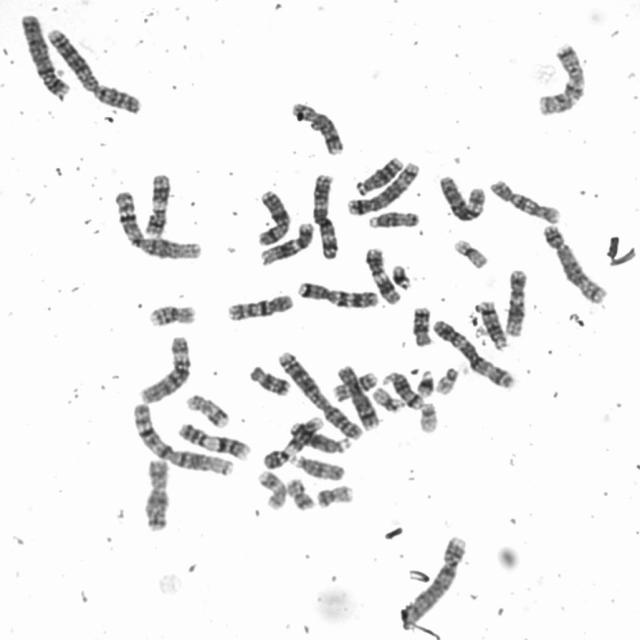A1: (129, 398, 237, 477), (110, 186, 204, 261)
A2: (43, 24, 144, 116), (272, 347, 366, 442)
A3: (431, 315, 519, 391), (309, 170, 342, 260)
B4: (397, 530, 469, 630), (18, 10, 72, 98)
B5: (539, 219, 609, 305), (344, 156, 423, 216)
C10: (486, 175, 564, 224), (224, 290, 295, 322)
C11: (361, 243, 404, 306), (142, 169, 173, 238)
C12: (257, 218, 316, 267), (500, 265, 530, 337)
C6: (135, 331, 194, 405), (435, 172, 487, 224)
C7: (534, 38, 589, 117), (294, 276, 382, 310)
C8: (334, 360, 382, 431), (288, 98, 346, 156)
C9: (260, 412, 326, 470), (174, 418, 252, 462)
D13: (352, 151, 406, 197), (285, 418, 352, 455)
D14: (379, 367, 426, 410), (475, 296, 510, 351)
D15: (286, 450, 348, 482), (364, 207, 421, 230)
E16: (330, 368, 379, 402), (144, 300, 198, 328)
E17: (183, 389, 233, 430), (254, 466, 289, 511)
E18: (246, 361, 292, 397), (408, 302, 434, 348)
F19: (449, 235, 491, 270), (368, 383, 406, 414)
F20: (282, 474, 316, 512), (313, 480, 356, 510)
G21: (388, 260, 414, 291), (414, 365, 436, 398)
G22: (433, 363, 461, 396), (415, 399, 441, 434)
X: (139, 455, 173, 533), (254, 186, 294, 248)
